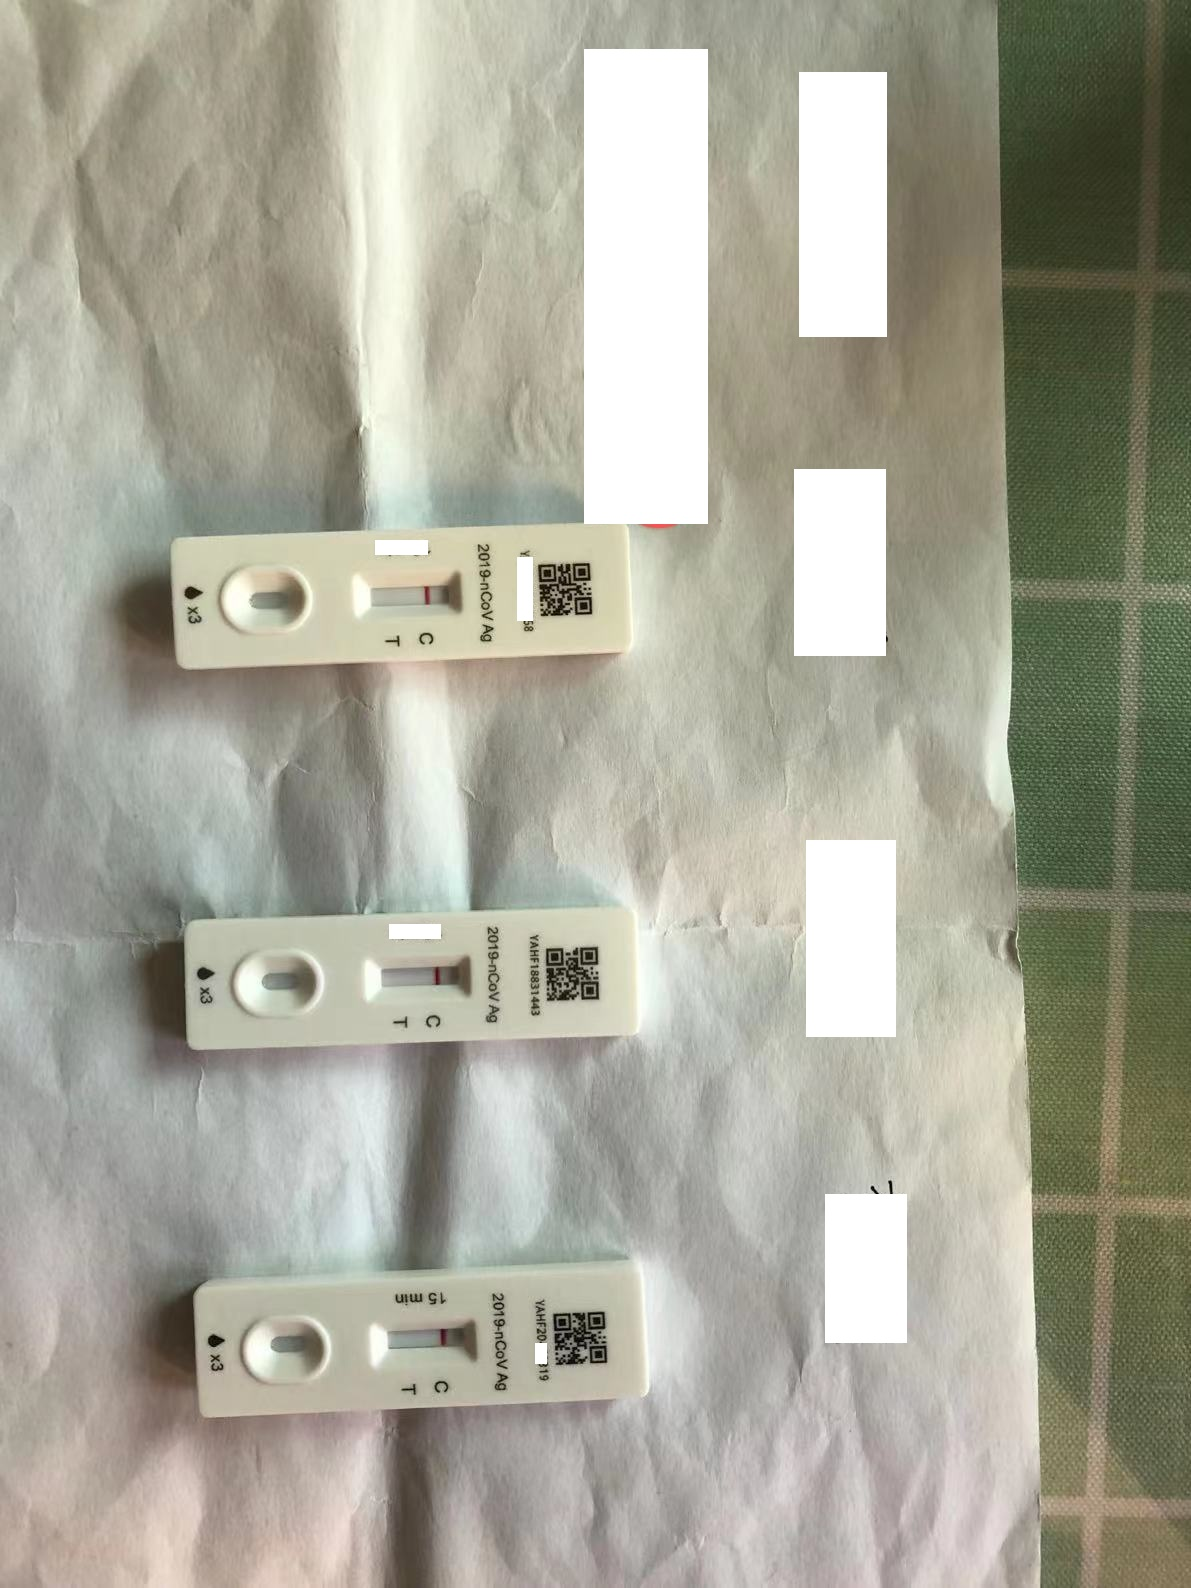negative: (353, 571, 463, 616), (364, 958, 472, 1002), (373, 1320, 475, 1364)
